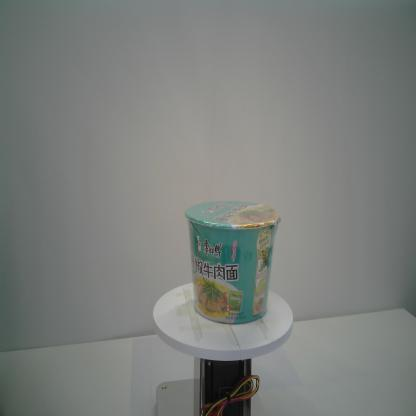Instant Noodles: (184, 199, 282, 325)
